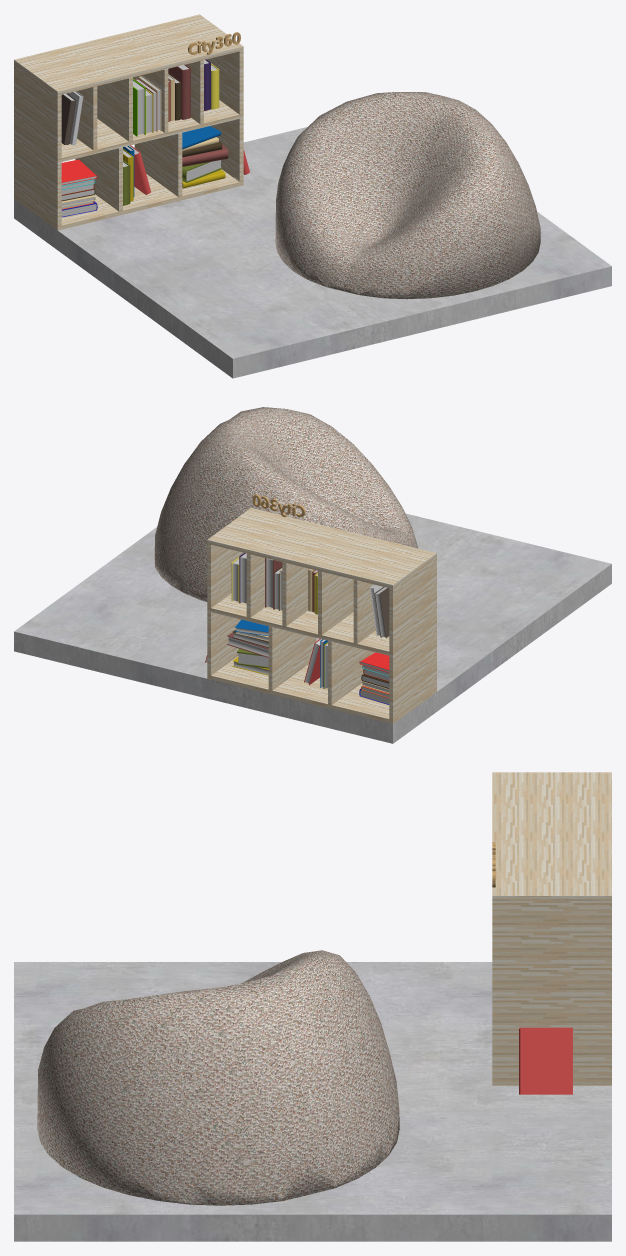
Rendered from book+chest.obj.
The picture shows the model from 3 angles, top to bottom: view 1: azimuth 30°, elevation 25°; view 2: azimuth 150°, elevation 25°; view 3: azimuth 270°, elevation 25°; orthographic projection. The views are drawn at different scales.
Parts seen in each view (by area): view 1: Mesh58 Group35 Model, Mesh59 Puff1 Model, Mesh57 Group1 Model, Mesh34 Group12 Standing_upright Books1 Group1 Model, Mesh52 Group30 Combined Books1 Group1 Model, Mesh48 Group26 Combined Books1 Group1 Model, Mesh45 Group23 Combined Books1 Group1 Model, Mesh40 Group18 Lying_flat Books1 Group1 Model, Mesh38 Group16 Lying_flat Books1 Group1 Model, Mesh39 Group17 Lying_flat Books1 Group1 Model, Mesh36 Group14 Standing_upright Books1 Group1 Model; view 2: Mesh58 Group35 Model, Mesh57 Group1 Model, Mesh59 Puff1 Model, Mesh45 Group23 Combined Books1 Group1 Model, Mesh34 Group12 Standing_upright Books1 Group1 Model, Mesh36 Group14 Standing_upright Books1 Group1 Model; view 3: Mesh58 Group35 Model, Mesh59 Puff1 Model, Mesh57 Group1 Model, Mesh44 Group22 Combined Books1 Group1 Model.
Part boxes in pixels (x1,y1,x2,y2): Mesh58 Group35 Model: (14,127,611,378); Mesh59 Puff1 Model: (275,92,540,299); Mesh57 Group1 Model: (14,14,243,230); Mesh34 Group12 Standing_upright Books1 Group1 Model: (168,64,190,119); Mesh52 Group30 Combined Books1 Group1 Model: (133,79,145,136); Mesh48 Group26 Combined Books1 Group1 Model: (61,159,97,185); Mesh45 Group23 Combined Books1 Group1 Model: (61,93,76,144); Mesh40 Group18 Lying_flat Books1 Group1 Model: (182,160,222,182); Mesh38 Group16 Lying_flat Books1 Group1 Model: (182,126,221,149); Mesh39 Group17 Lying_flat Books1 Group1 Model: (182,144,228,166); Mesh36 Group14 Standing_upright Books1 Group1 Model: (129,145,150,194); Mesh58 Group35 Model: (14,513,611,743); Mesh57 Group1 Model: (207,508,436,723); Mesh59 Puff1 Model: (154,407,418,601); Mesh45 Group23 Combined Books1 Group1 Model: (374,587,389,637); Mesh34 Group12 Standing_upright Books1 Group1 Model: (265,558,282,609); Mesh36 Group14 Standing_upright Books1 Group1 Model: (304,639,321,685); Mesh58 Group35 Model: (14,962,611,1241); Mesh59 Puff1 Model: (37,950,399,1205); Mesh57 Group1 Model: (492,772,611,1085); Mesh44 Group22 Combined Books1 Group1 Model: (519,1027,572,1094).
Bounding box in the file's own units: 200 × 87.68 × 200.
Materials: 52 (34 with a texture image).
